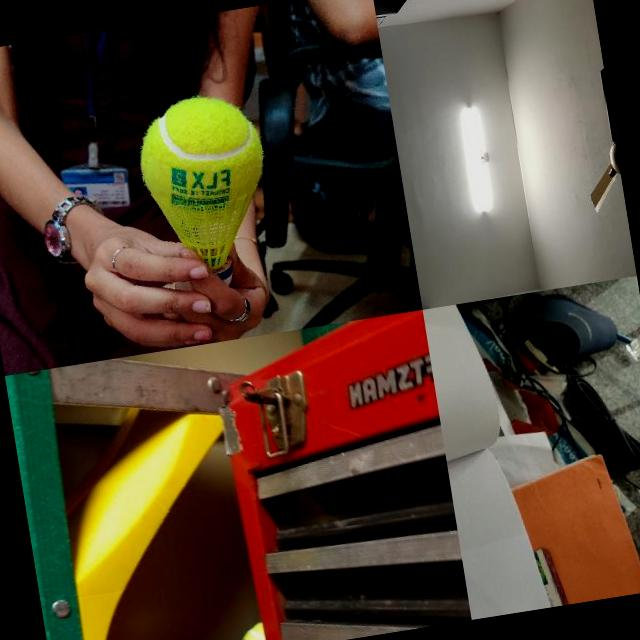Tennis Ball: (132, 89, 266, 194), (233, 620, 267, 640)
